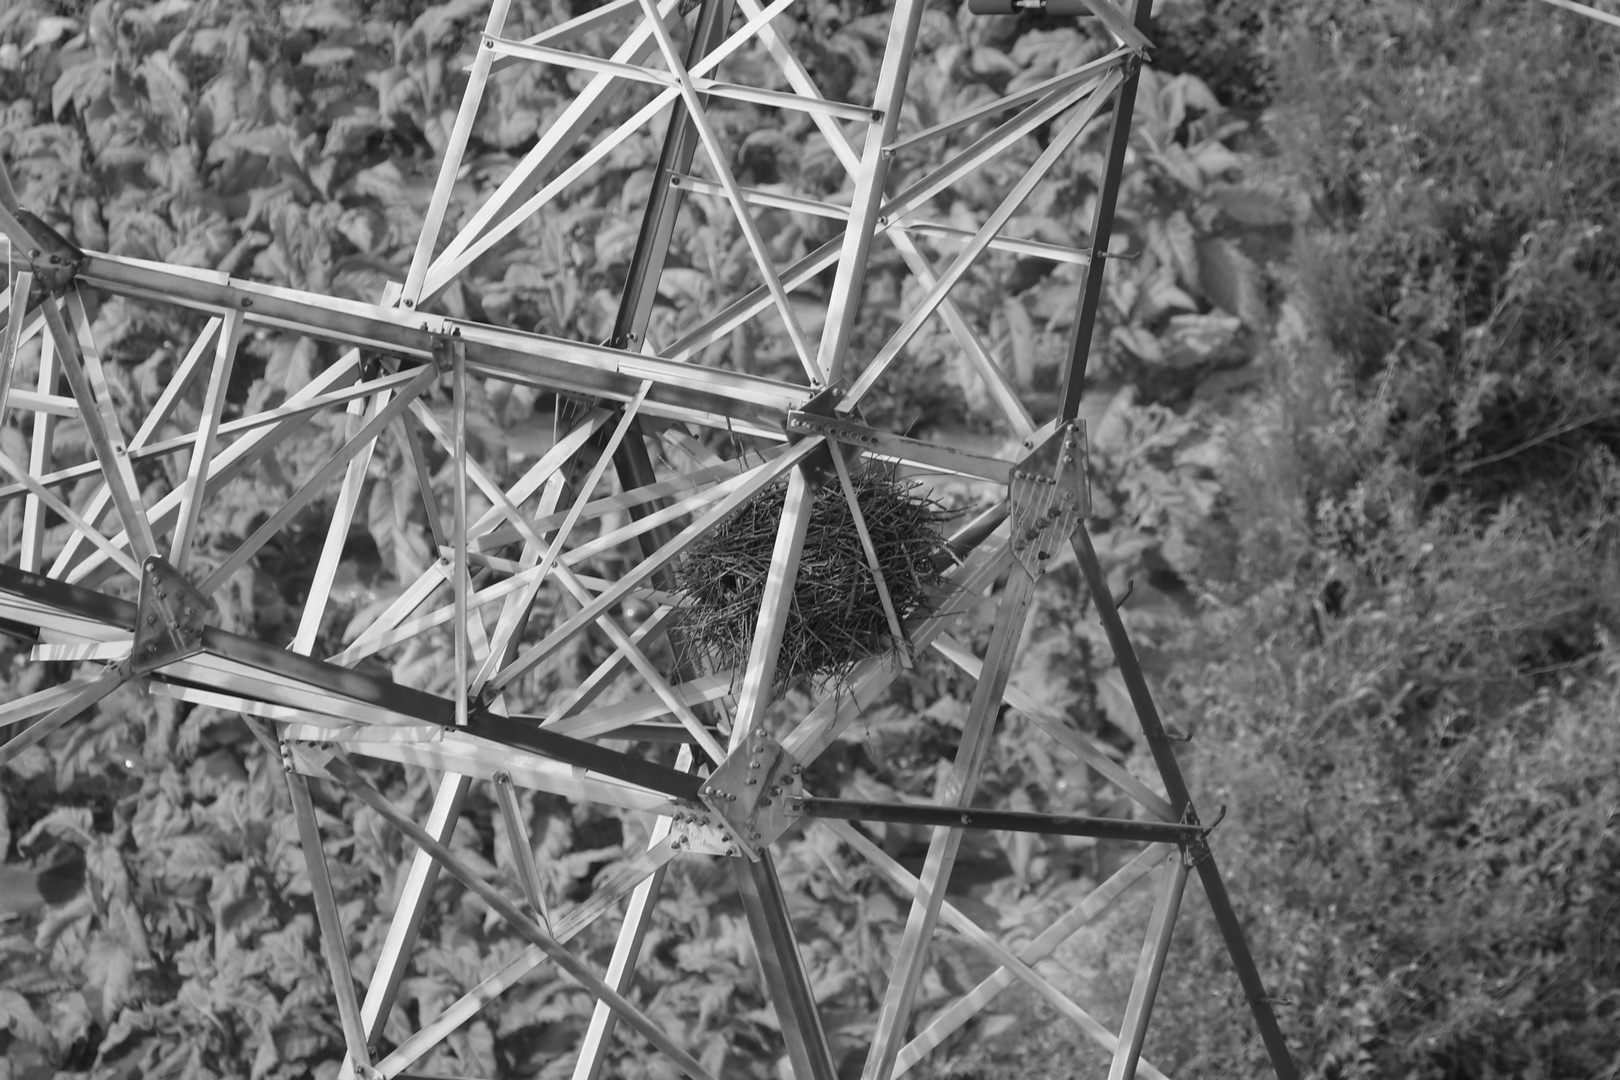niaowo: (653, 440, 972, 679)
